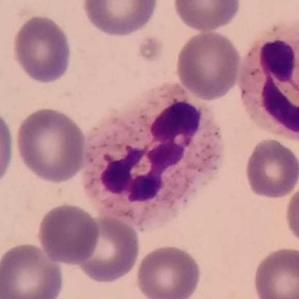Neutrophil: (76, 85, 232, 234), (234, 29, 299, 144)
Platelets: (137, 35, 169, 64)
RBC: (13, 105, 88, 185), (72, 213, 142, 284), (174, 29, 243, 100), (10, 13, 74, 85), (35, 202, 102, 265), (134, 242, 203, 299), (0, 240, 66, 298), (242, 136, 298, 201), (80, 0, 160, 38), (250, 245, 299, 299), (171, 0, 243, 33), (0, 105, 17, 191), (282, 182, 299, 250)
